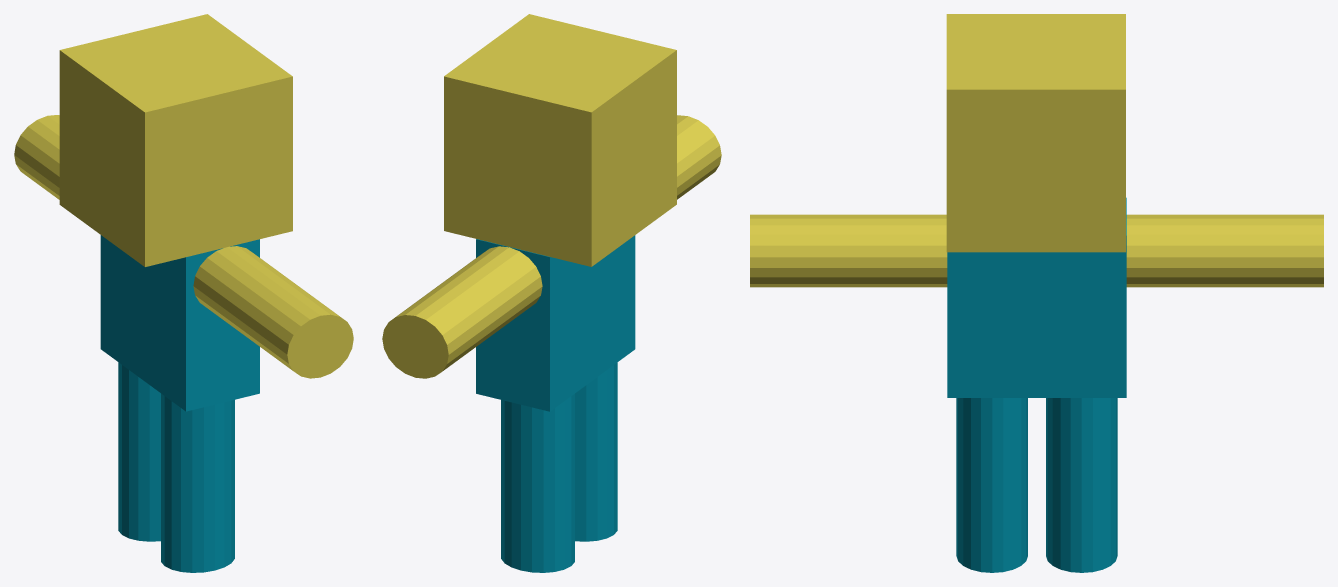
Rendered from Mighty Rottis.glb.
3 renders of one model, left to right at view 1: azimuth 30°, elevation 25°; view 2: azimuth 150°, elevation 25°; view 3: azimuth 270°, elevation 25°, orthographic. The views are drawn at different scales.
Visible parts, largest first — view 1: Mesh_Mesh_head_geo.001_lambert2SG.001; view 2: Mesh_Mesh_head_geo.001_lambert2SG.001; view 3: Mesh_Mesh_head_geo.001_lambert2SG.001.
Part boxes in pixels (box(x1,y1,x2,y2)): Mesh_Mesh_head_geo.001_lambert2SG.001: box(14, 14, 353, 572); Mesh_Mesh_head_geo.001_lambert2SG.001: box(382, 14, 721, 572); Mesh_Mesh_head_geo.001_lambert2SG.001: box(750, 14, 1323, 572).
Bounding box in the file's own units: 20 × 62 × 64.
